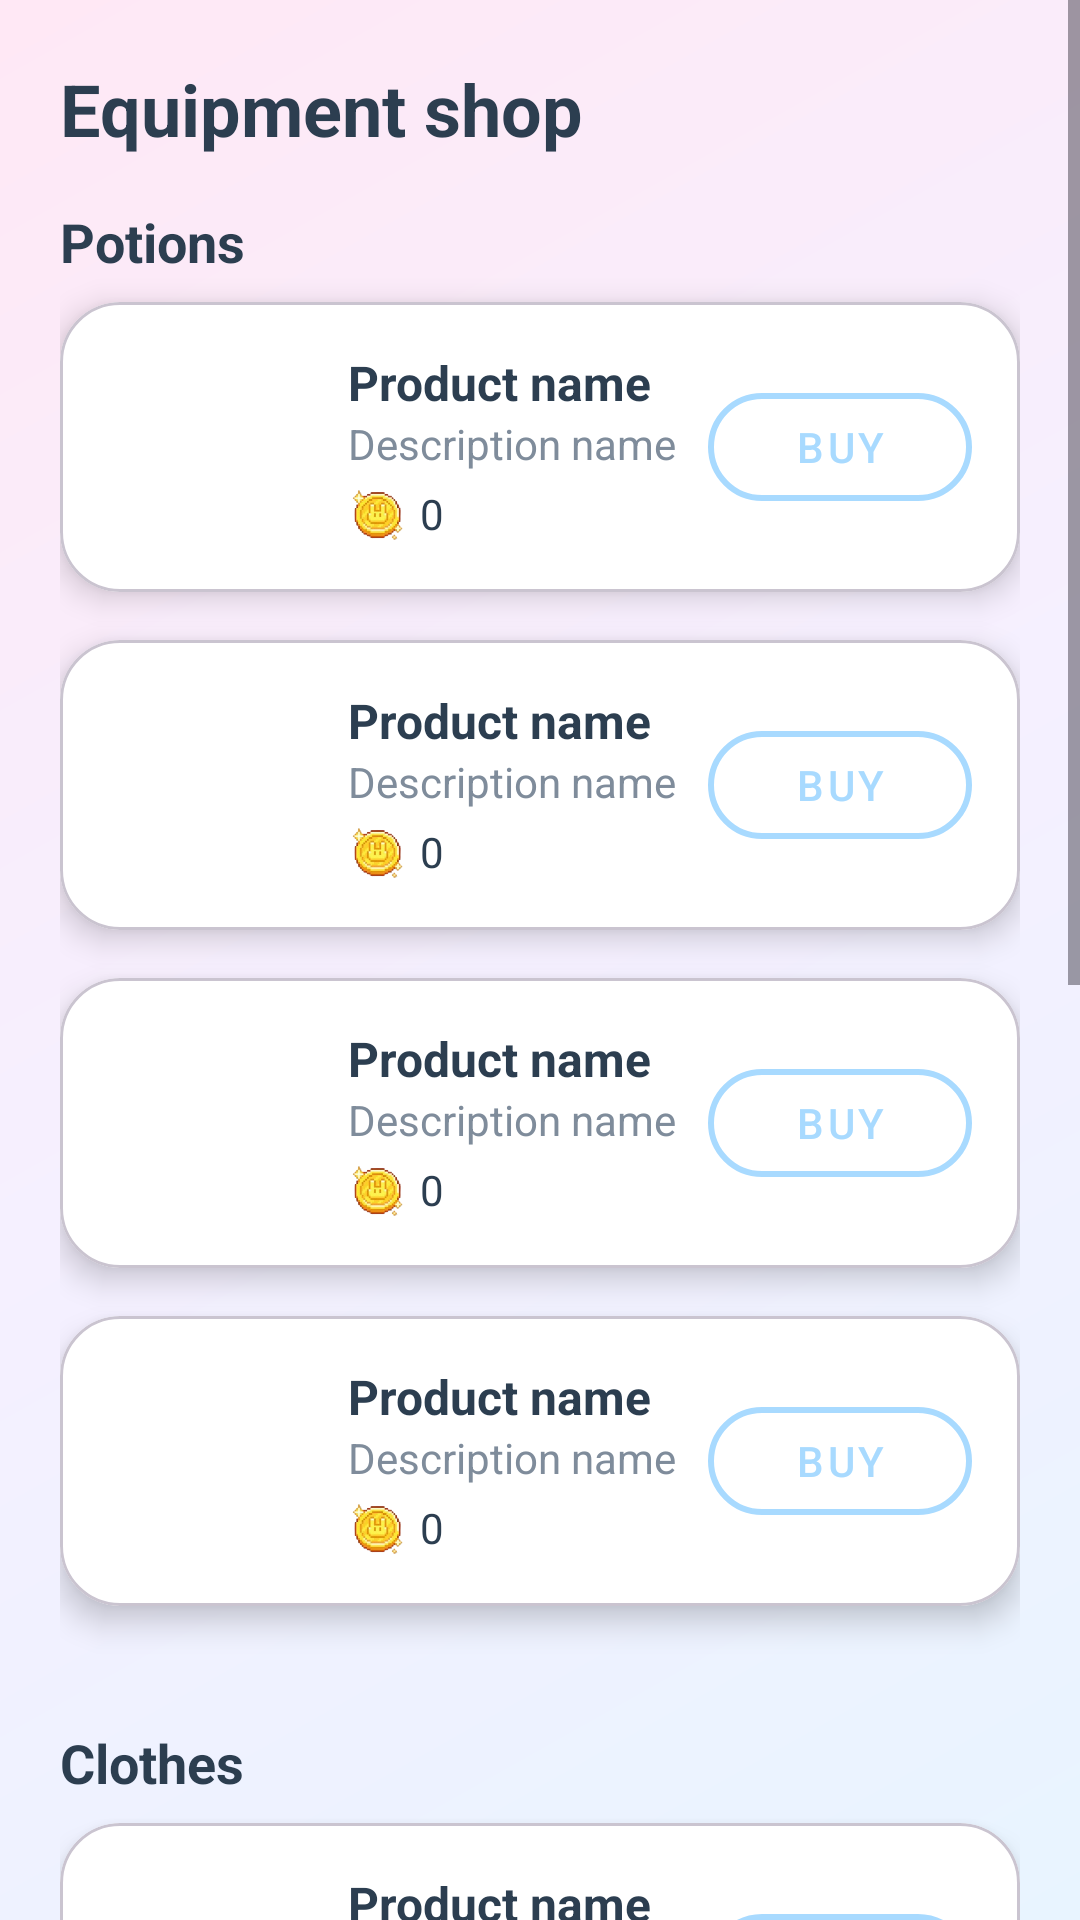

Where to tap for icons on this 1080x1920 app screen, as [x,y]:
Coin icon: [378,515], [378,853], [378,1191], [378,1529]
